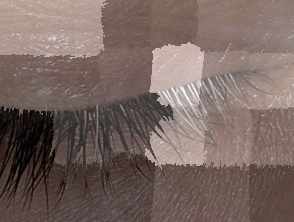vitiligo: (0, 5, 294, 222)
